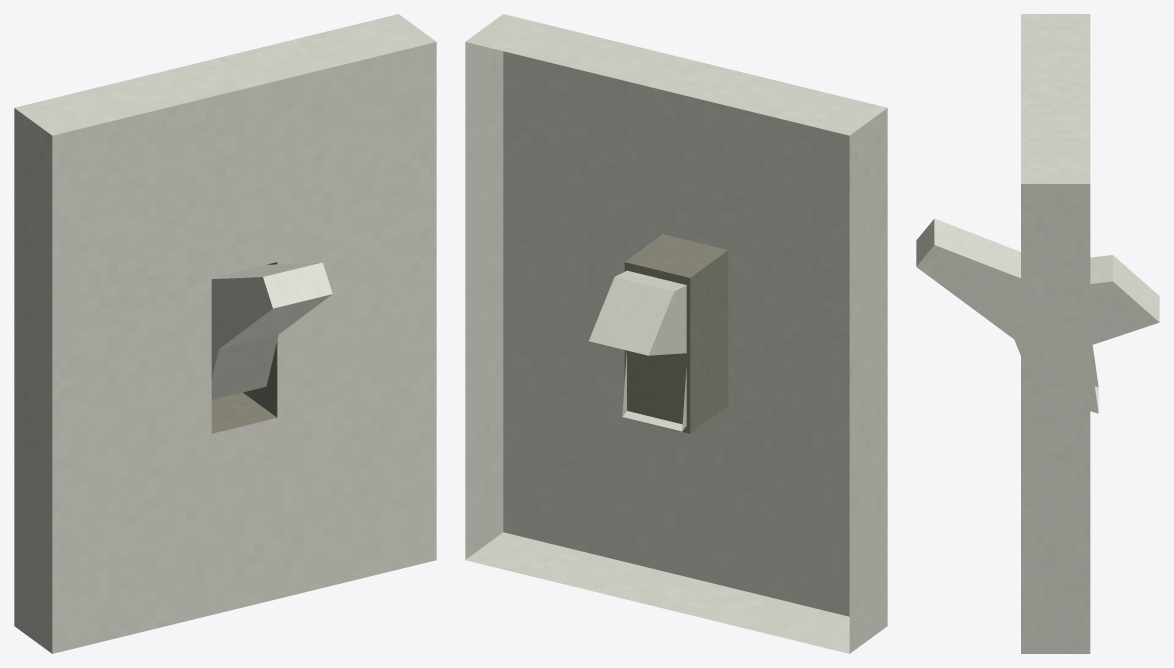
File: lightswitch.fbx
The picture shows the model from 3 angles, left to right: view 1: azimuth 30°, elevation 25°; view 2: azimuth 150°, elevation 25°; view 3: azimuth 270°, elevation 25°; orthographic projection. The views are drawn at different scales.
Visible parts, largest first — view 1: lightswitch_panel, switch1; view 2: lightswitch_panel, switch1; view 3: lightswitch_panel, switch1.
Boxes of the visible parts, left/top/right/bottom form: lightswitch_panel: left=14, top=14, right=436, bottom=653; switch1: left=211, top=262, right=332, bottom=399; lightswitch_panel: left=465, top=14, right=887, bottom=653; switch1: left=589, top=270, right=686, bottom=431; lightswitch_panel: left=1021, top=14, right=1090, bottom=653; switch1: left=916, top=218, right=1159, bottom=413.
Bounding box in the file's own units: 22.96 × 29.58 × 13.89.
1 material, 1 textured.
